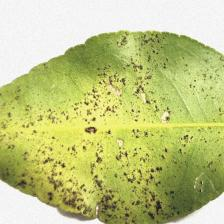canker: (32, 92, 163, 204)
